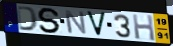3: (113, 14, 132, 39)
D: (17, 5, 40, 32)
H: (131, 13, 157, 42)
N: (63, 9, 88, 36)
S: (37, 7, 62, 34)
V: (85, 10, 108, 38)
